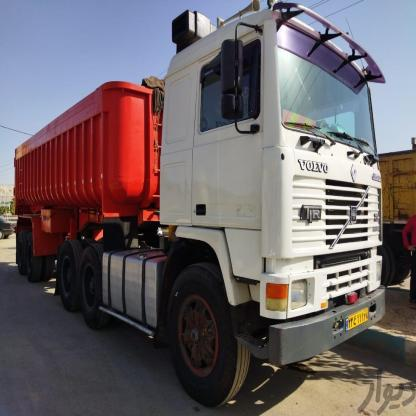Truck: (13, 0, 397, 416), (378, 120, 416, 301)
